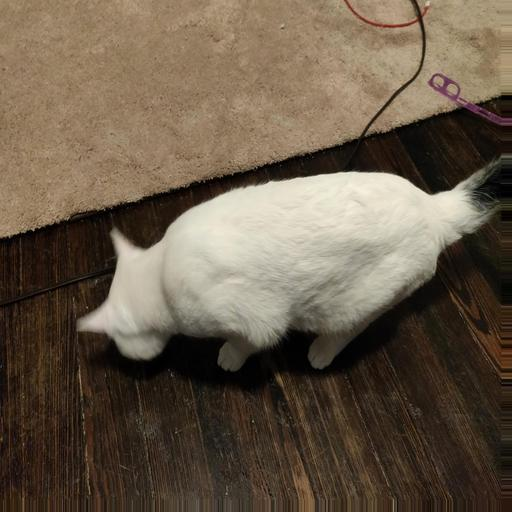cat: (90, 169, 299, 378)
